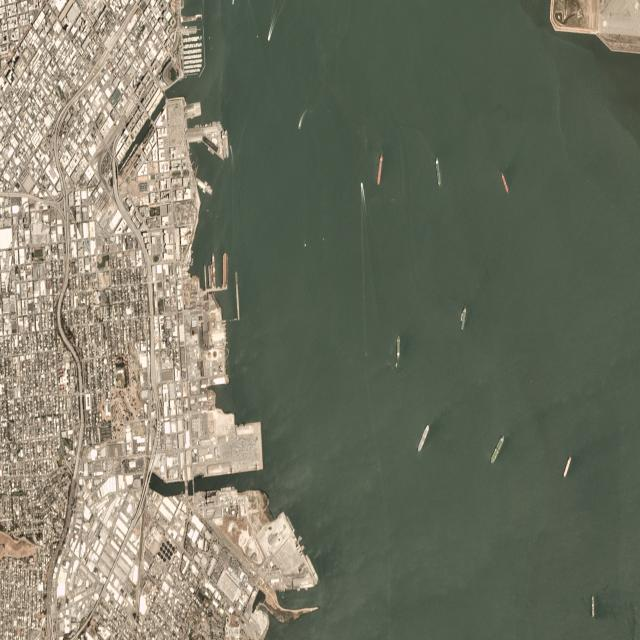ship: (490, 433, 505, 465), (417, 425, 431, 453), (434, 156, 444, 188), (562, 456, 574, 480), (500, 172, 510, 196), (394, 332, 402, 362), (210, 252, 217, 286), (460, 304, 468, 330), (377, 155, 383, 187), (590, 594, 596, 619)
